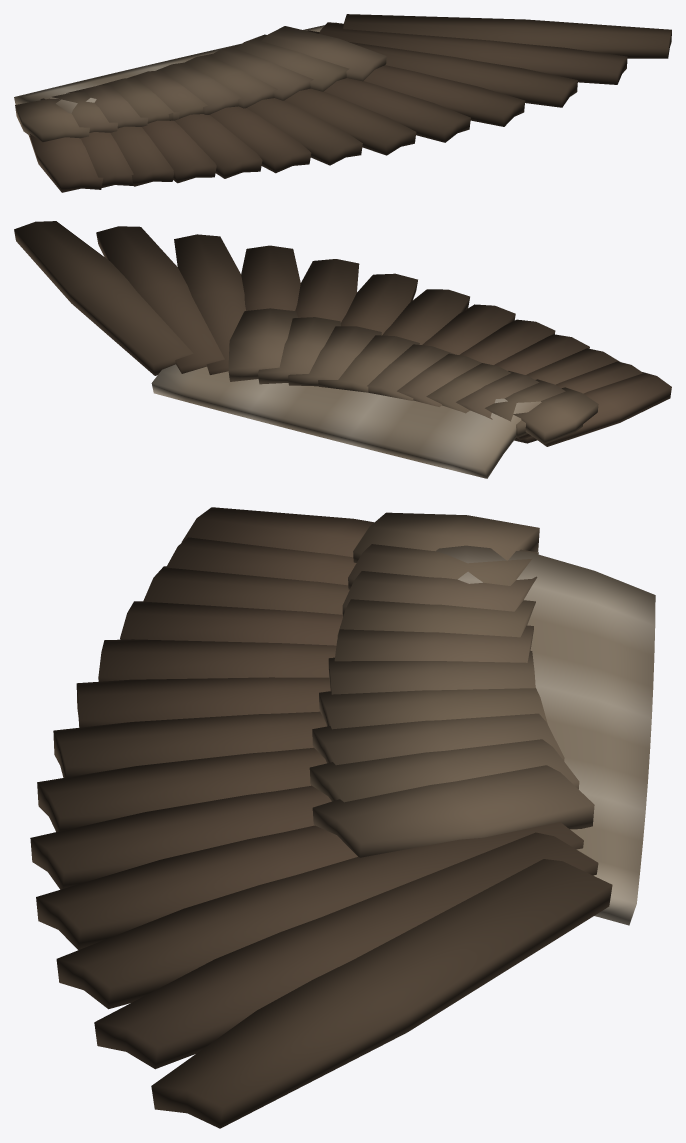
File: Fukurou_Wing.fbx
3 views of the same model, one above another, from view 1: azimuth 30°, elevation 25°; view 2: azimuth 150°, elevation 25°; view 3: azimuth 270°, elevation 25° (orthographic). The views are drawn at different scales.
Visible parts, largest first — view 1: Fukurou_Wing; view 2: Fukurou_Wing; view 3: Fukurou_Wing.
Part boxes in pixels (x1=…): Fukurou_Wing: x1=14, y1=14, x2=671, y2=192; Fukurou_Wing: x1=14, y1=221, x2=671, y2=478; Fukurou_Wing: x1=30, y1=507, x2=655, y2=1128.
Bounding box in the file's own units: 13.46 × 0.7414 × 5.93.
